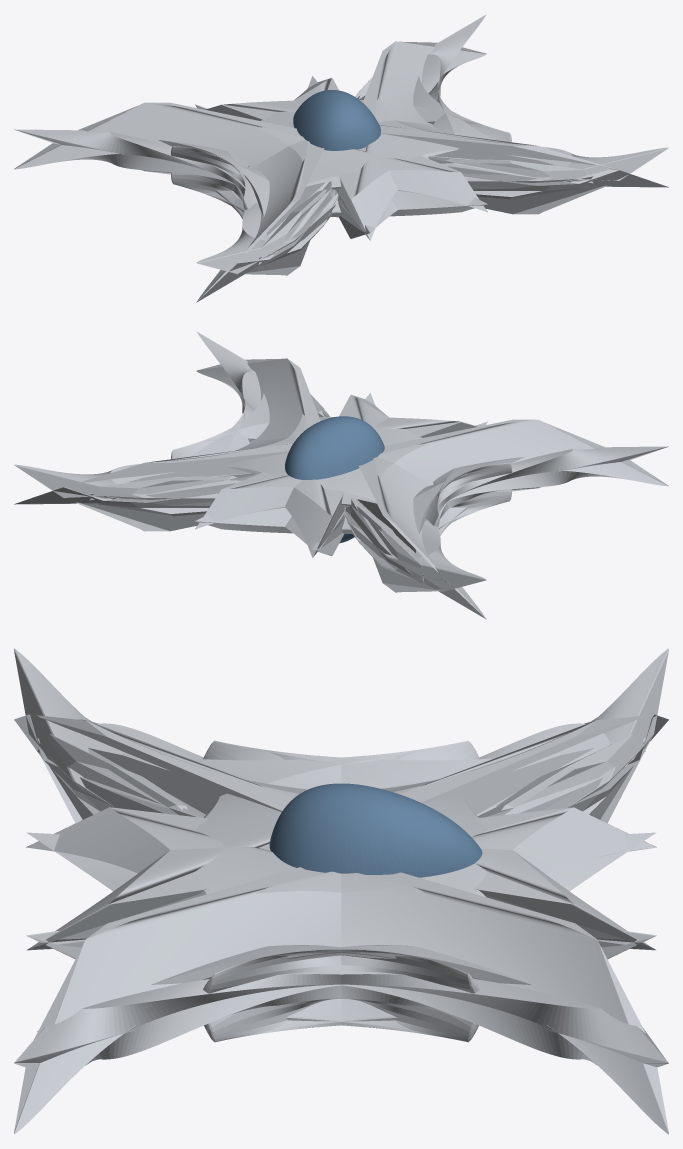
Rendered from ENE018.glb.
3 renders of one model, top to bottom at view 1: azimuth 30°, elevation 25°; view 2: azimuth 150°, elevation 25°; view 3: azimuth 270°, elevation 25°, orthographic. The views are drawn at different scales.
Parts seen in each view (by area): view 1: assembly_fuselage, assembly_canopy; view 2: assembly_fuselage, assembly_canopy; view 3: assembly_fuselage, assembly_canopy.
Part boxes in pixels (x1,y1,x2,y2): assembly_fuselage: (14,14,668,302); assembly_canopy: (293,90,380,217); assembly_fuselage: (14,331,668,619); assembly_canopy: (285,416,384,543); assembly_fuselage: (14,648,668,1134); assembly_canopy: (269,783,482,877).
Size of the model in its own units: 8.83 by 2.03 by 5.9.
